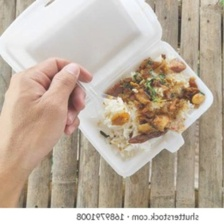foam_box: (0, 0, 217, 183)
